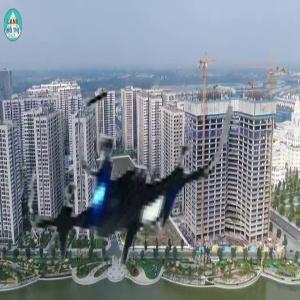drone: (29, 87, 229, 287)
